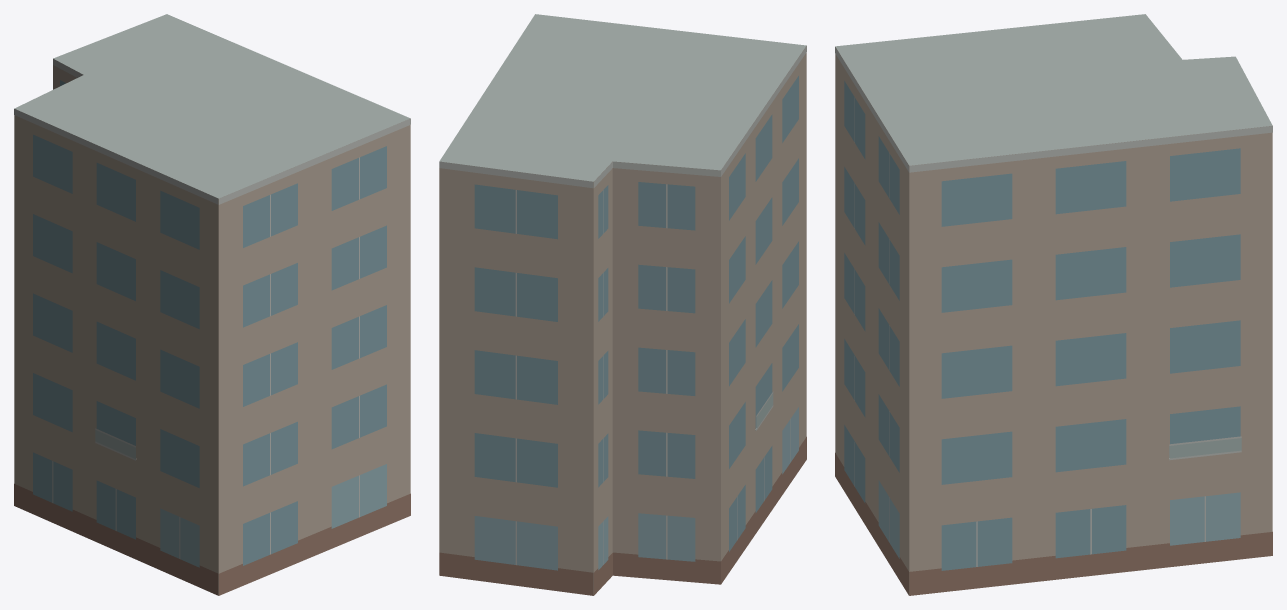
The model's file is survey-upis-32646341.glb.
The picture shows the model from 3 angles, left to right: view 1: azimuth 30°, elevation 25°; view 2: azimuth 150°, elevation 25°; view 3: azimuth 270°, elevation 25°; orthographic projection. The views are drawn at different scales.
Visible parts, largest first — view 1: survey-upis-32646341.tmp; view 2: survey-upis-32646341.tmp; view 3: survey-upis-32646341.tmp.
Boxes of the visible parts, x1=… form: survey-upis-32646341.tmp: x1=14, y1=14, x2=410, y2=595; survey-upis-32646341.tmp: x1=439, y1=14, x2=806, y2=595; survey-upis-32646341.tmp: x1=835, y1=14, x2=1272, y2=595.
Size of the model in its own units: 11.55 by 15.25 by 14.07.
